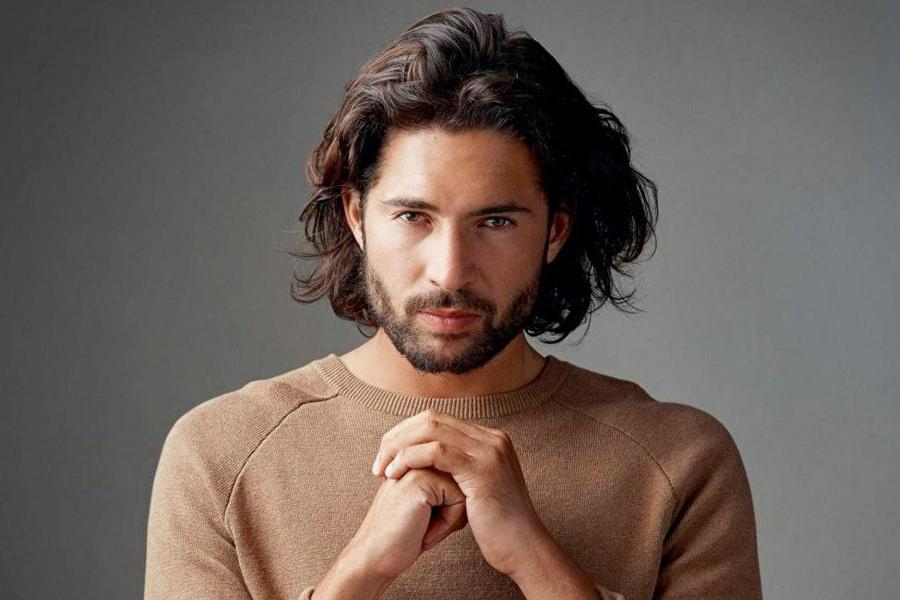Sober: (360, 148, 542, 371)
